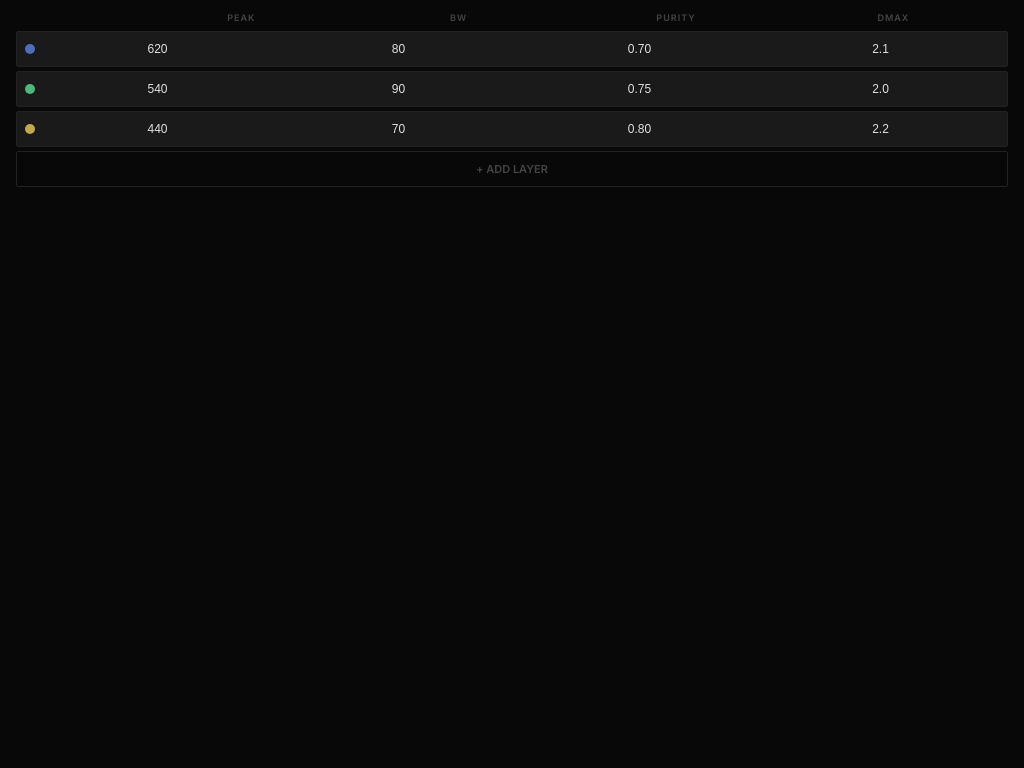
Test: tapping same row again collapses it
The image size is (1024, 768).
Click the button named "expand layer" at (30, 49), box [16, 31, 1008, 67]
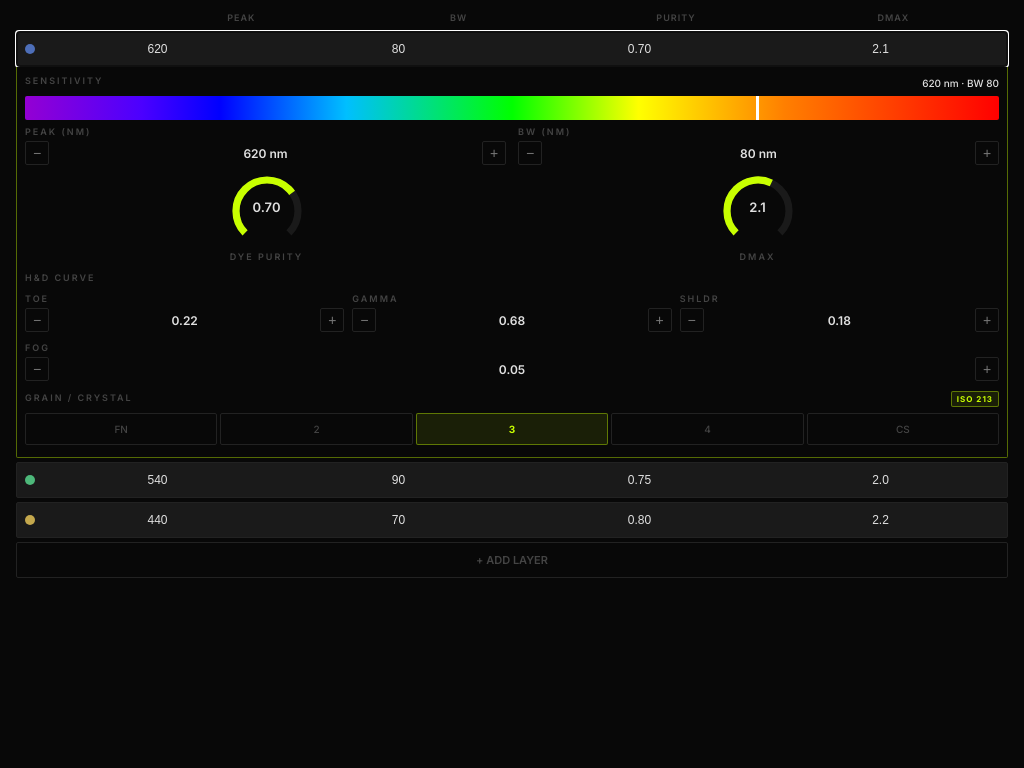
Click the button named "expand layer" at (30, 49), box [16, 31, 1008, 67]
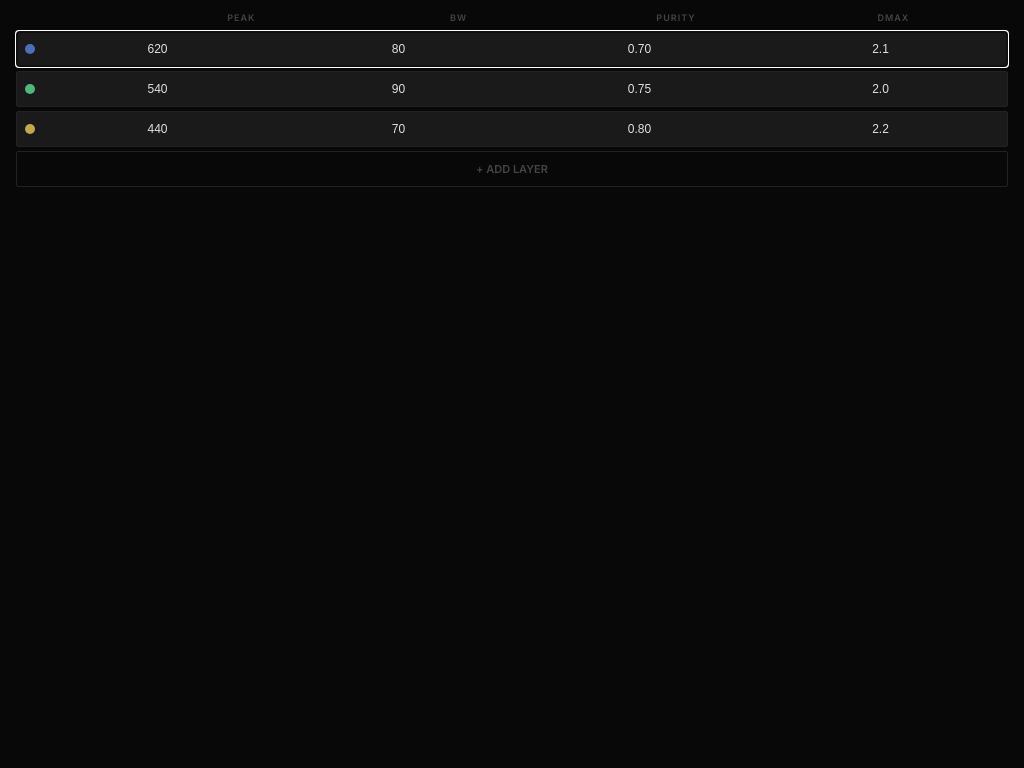
Result: the text "SENSITIVITY" is gone
